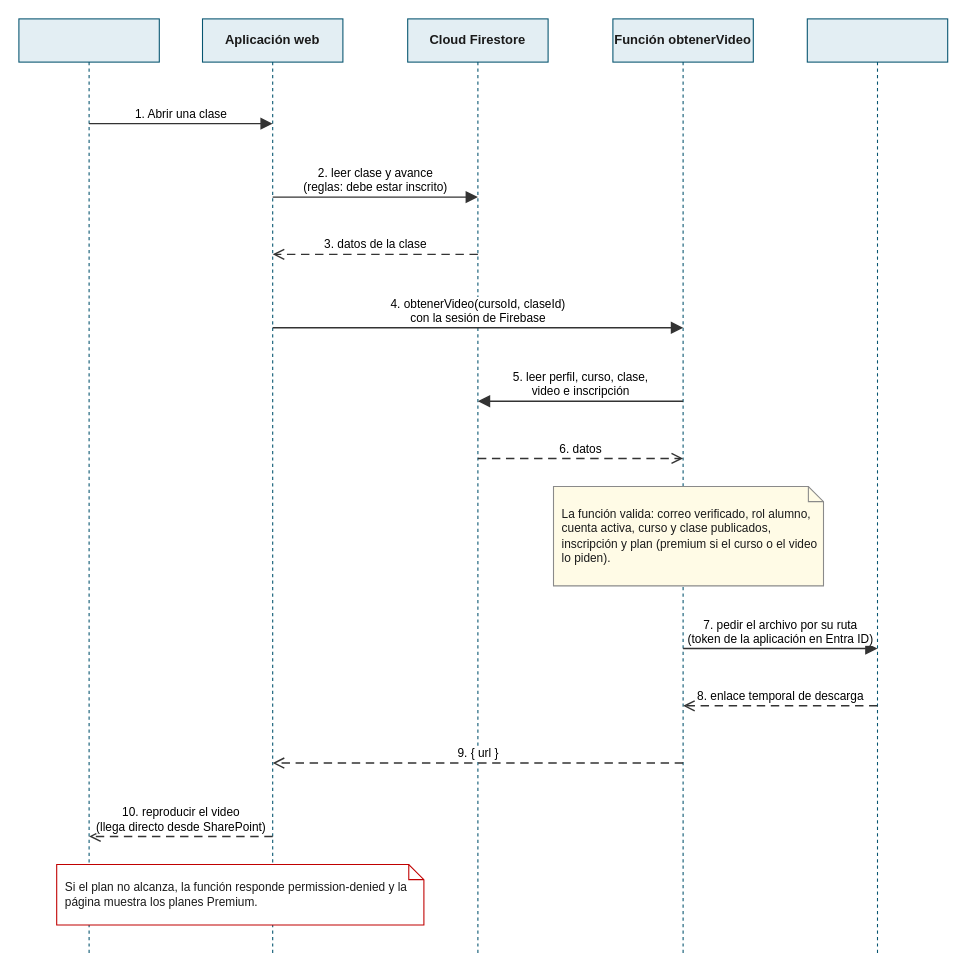
Image size: 967x972. Some labels were removed from this diagram. Each missing label, with the box of its shape:
Alumno: (18, 18, 159, 953)
SharePoint (Graph): (806, 18, 948, 953)
